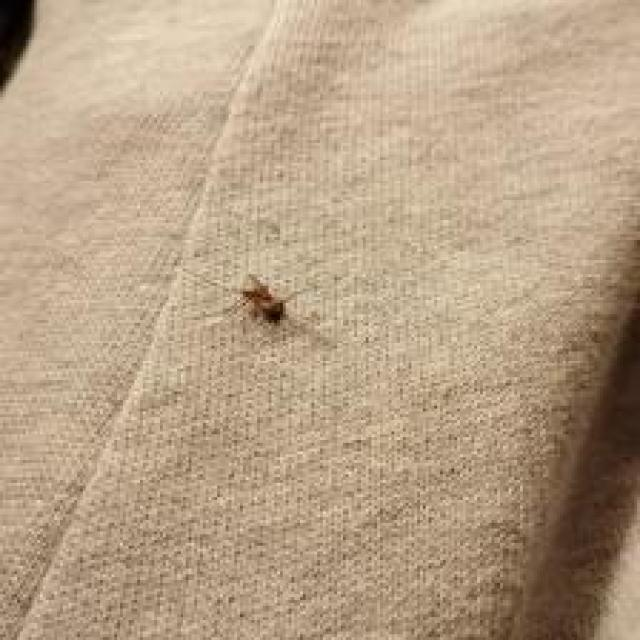Culex: (230, 272, 307, 328)
